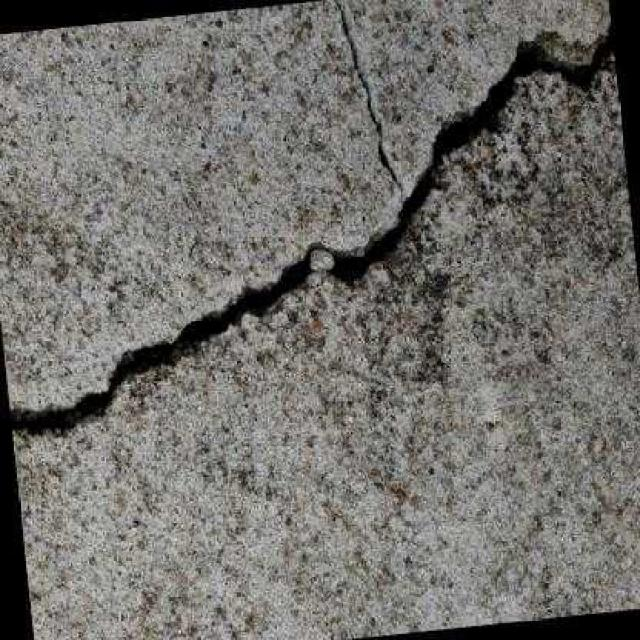D00: (7, 0, 613, 435)
